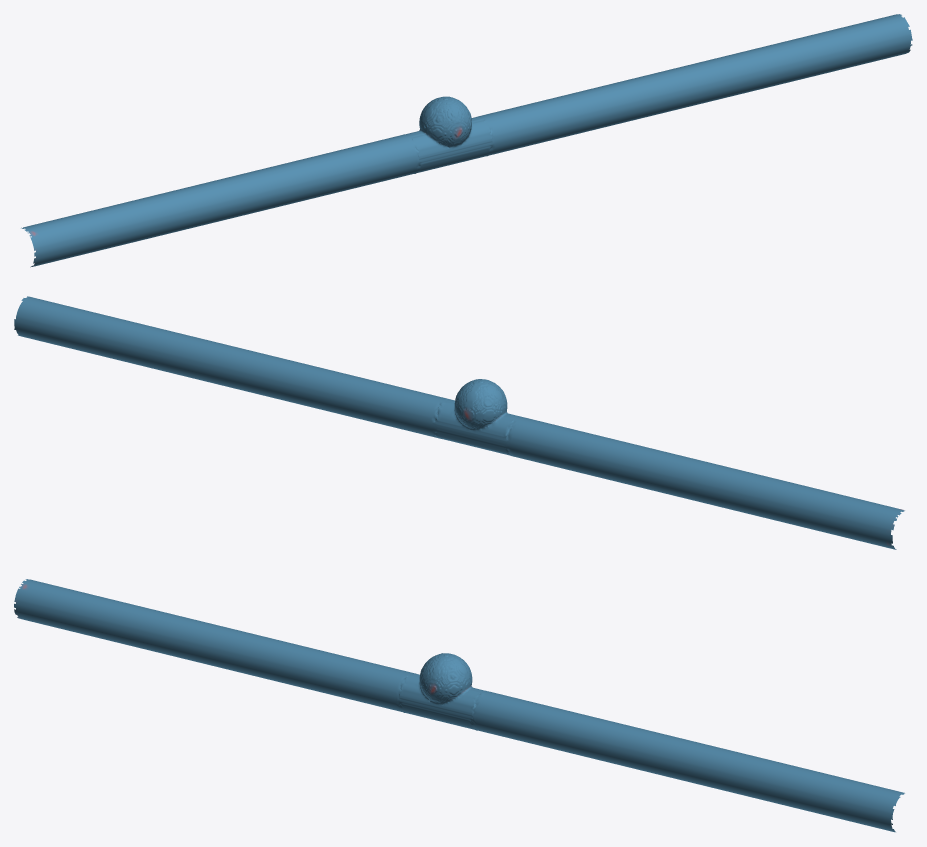
The model's file is PT-2026-0103-osi.glb.
3 renders of one model, top to bottom at view 1: azimuth 30°, elevation 25°; view 2: azimuth 150°, elevation 25°; view 3: azimuth 330°, elevation 25°, orthographic.
Parts seen in each view (by area): view 1: geometry_0; view 2: geometry_0; view 3: geometry_0.
Boxes of the visible parts, x1,y1,x2,y2 form: geometry_0: (21,14,912,267); geometry_0: (14,296,904,549); geometry_0: (14,579,904,832).
Size of the model in its own units: 1.95 by 0.138 by 0.1018.
